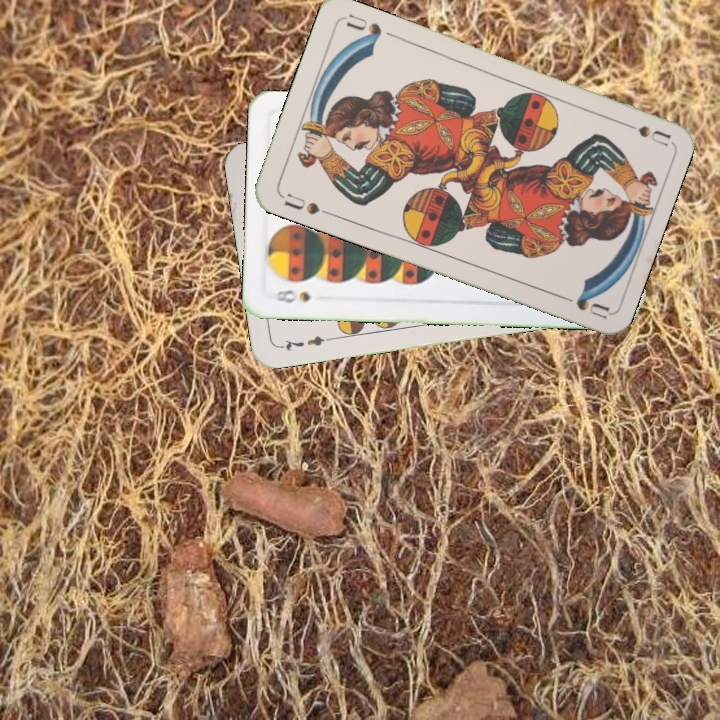E7: (276, 332, 335, 354)
S8: (268, 285, 314, 306)
SU: (613, 116, 672, 148), (280, 189, 334, 218)
